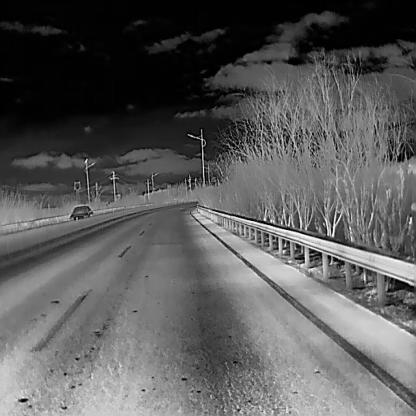car: (68, 205, 92, 221)
